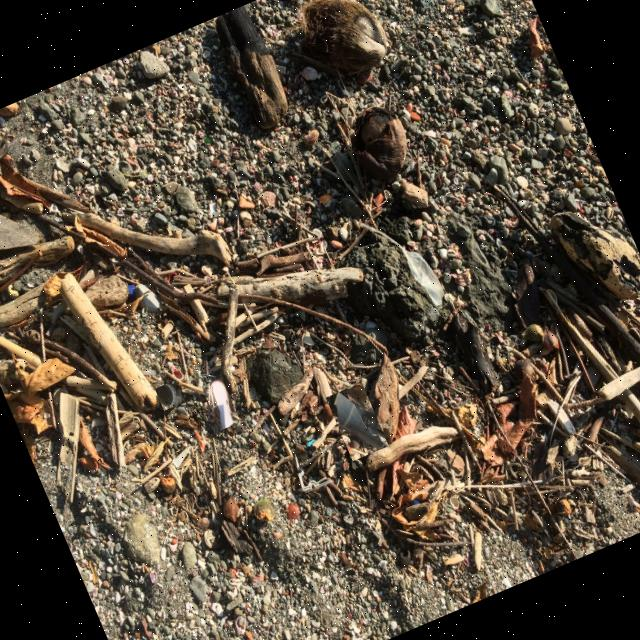Other plastic bottle: (335, 393, 387, 449), (295, 454, 332, 491), (209, 379, 233, 429), (172, 449, 189, 468), (309, 439, 316, 447)
Plastic film: (359, 222, 445, 305)
Unlabeled litter: (158, 384, 182, 407)
